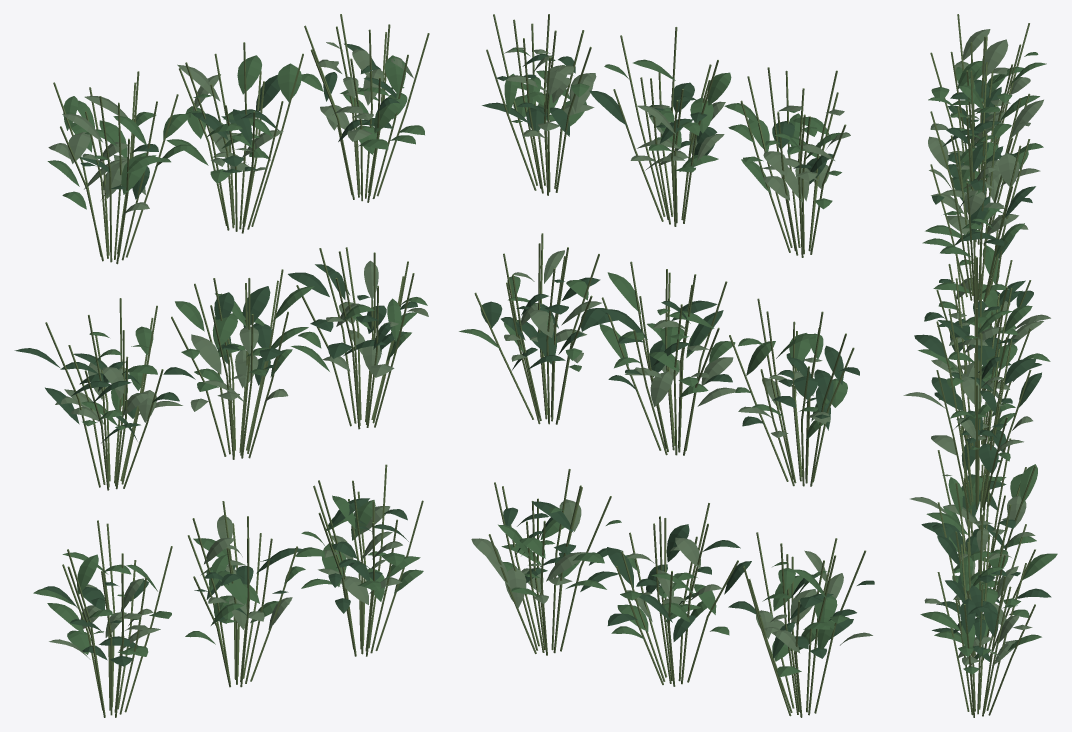
File: pink.glb
3 views of the same model, side by side, from view 1: azimuth 30°, elevation 25°; view 2: azimuth 150°, elevation 25°; view 3: azimuth 270°, elevation 25° (orthographic). The views are drawn at different scales.
Parts seen in each view (by area): view 1: pink; view 2: pink; view 3: pink.
Boxes of the visible parts, <box> form: pink: <box>14,14,429,717</box>; pink: <box>459,14,874,717</box>; pink: <box>903,14,1057,717</box>.
Size of the model in its own units: 0.9309 by 1.43 by 0.3414.
